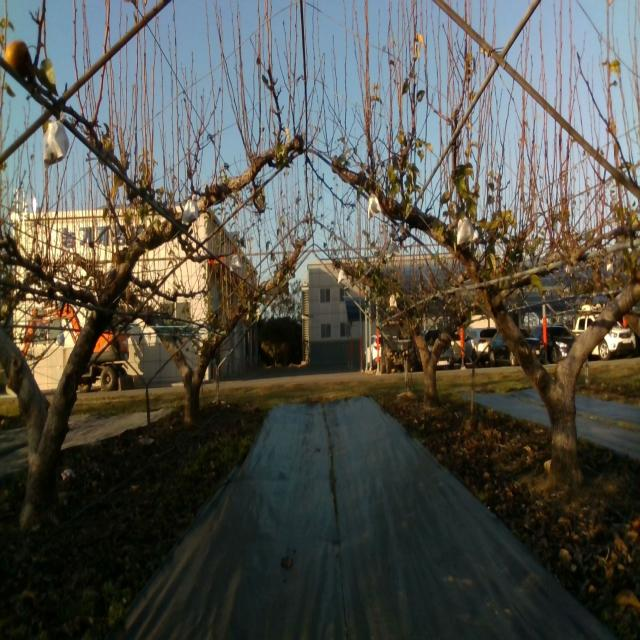pearbags: (43, 111, 70, 172), (182, 193, 200, 226), (457, 217, 477, 246), (368, 192, 382, 222), (386, 241, 400, 259)
